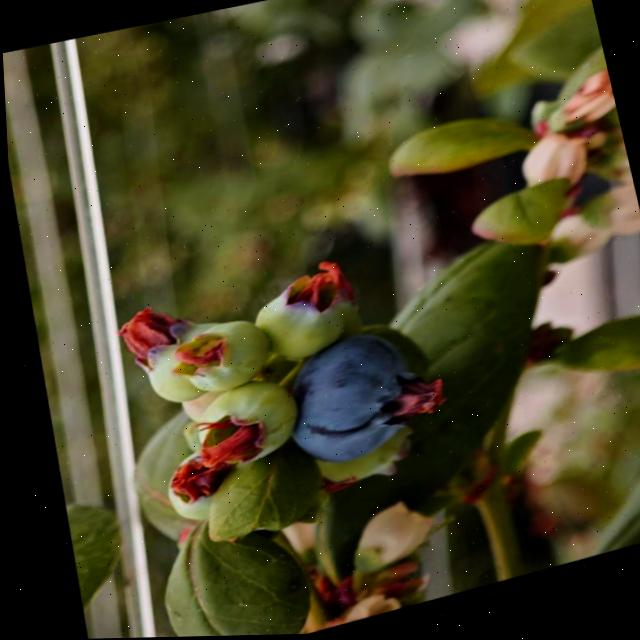RipeBlueBerry: (261, 327, 433, 479)
